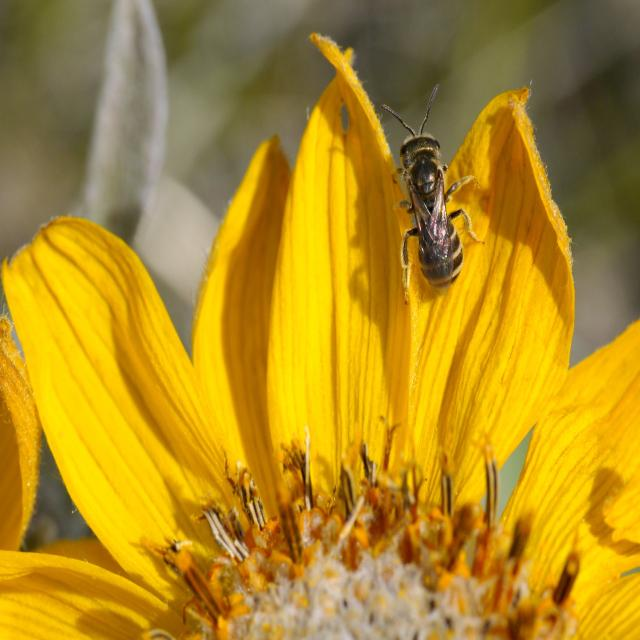Lasioglossum: (375, 75, 490, 312)
